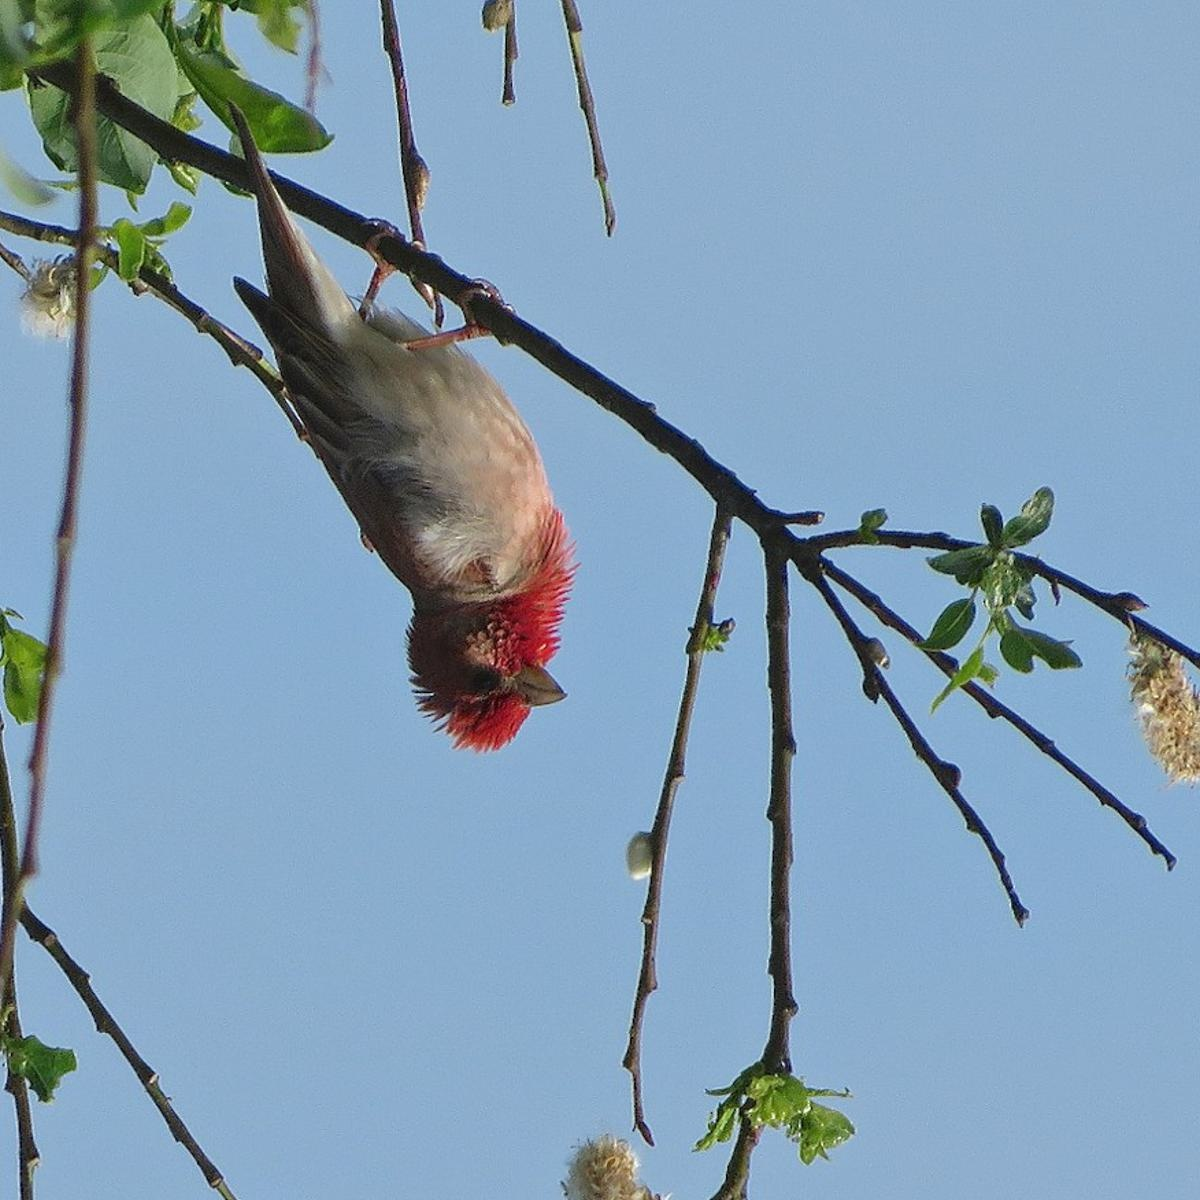rosefinch: (222, 88, 584, 730)
